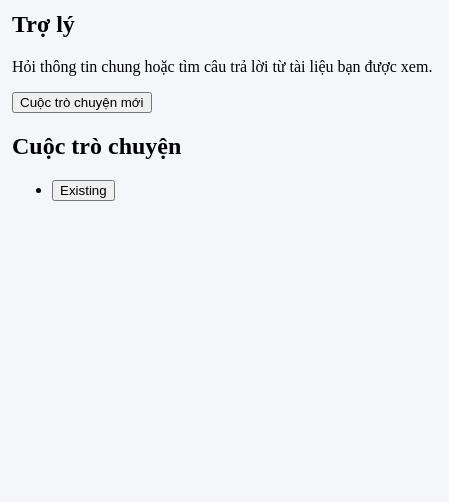
Test: rejects an external citation without sending credentials
This screenshot has width=449, height=502.
Click the button "Existing" at (83, 190), box [52, 180, 115, 201]
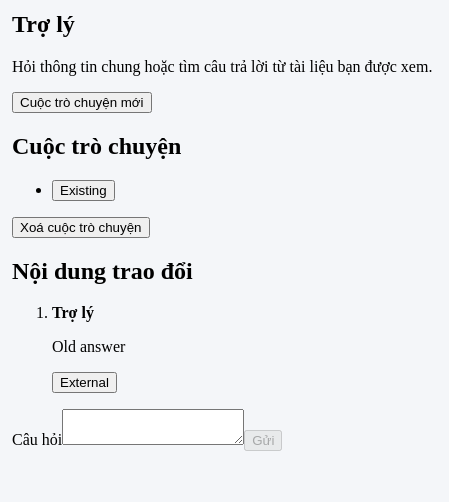
Click the button "External" at (84, 383), box [52, 372, 117, 393]
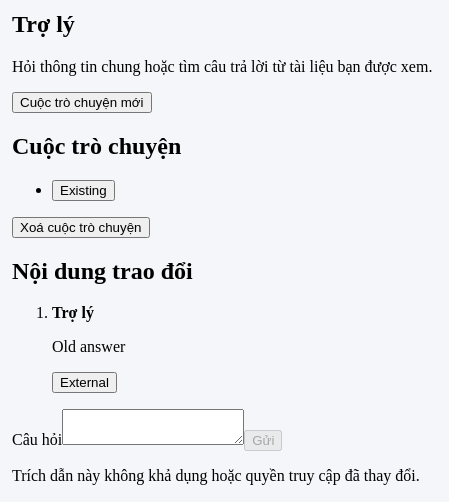
Now the text "Trích dẫn này không khả dụng hoặc quyền truy cập đã thay đổi." is shown, box [12, 467, 420, 484]
